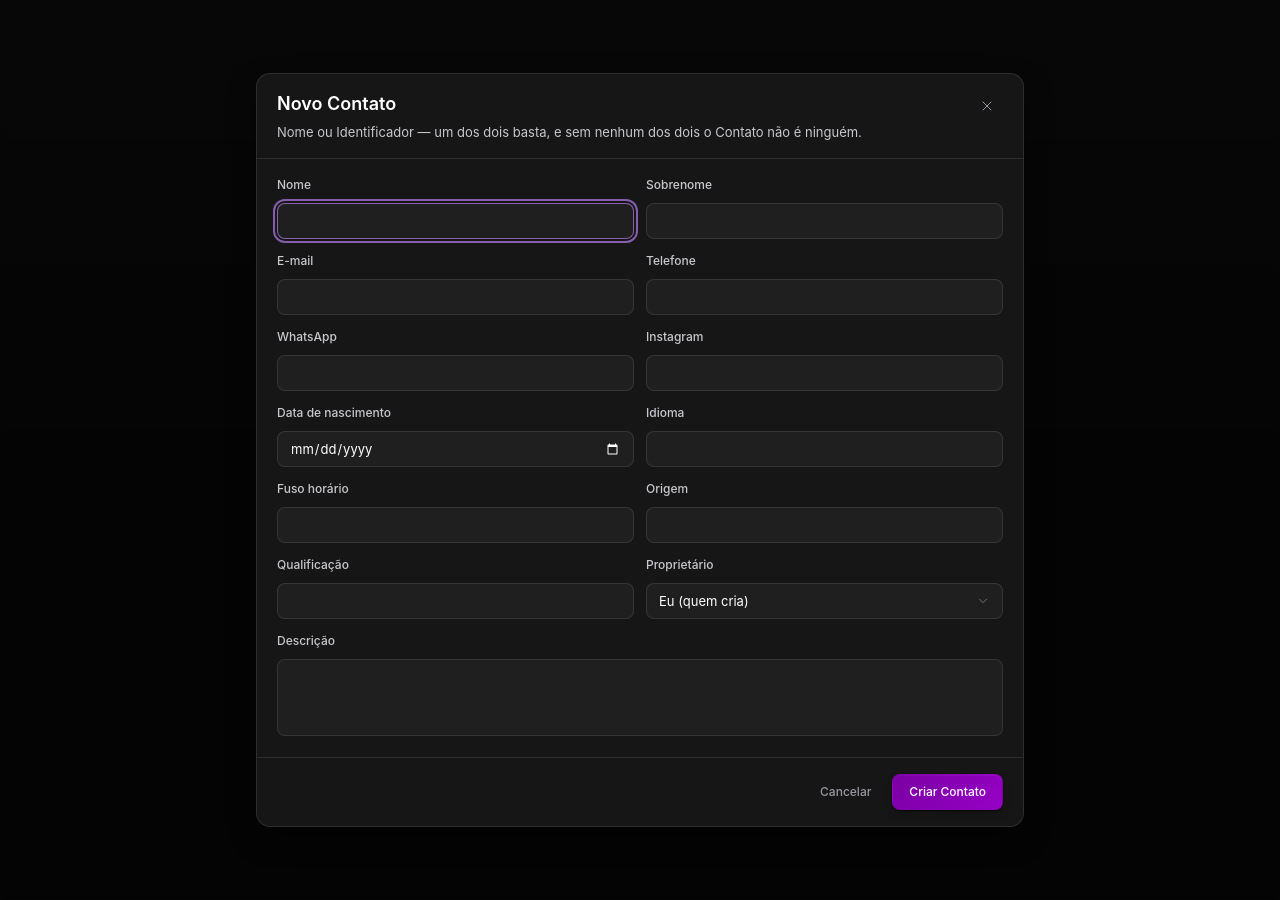
Scenario: DialogoNovoContato › (b) 409 IDENTIFICADOR_EM_USO mostra a frase e o link do detentor, e o diálogo fica aberto com os campos
This screenshot has width=1280, height=900.
Type "Ana" into the field labelled "Nome" at [456, 221], box [277,203,634,239]
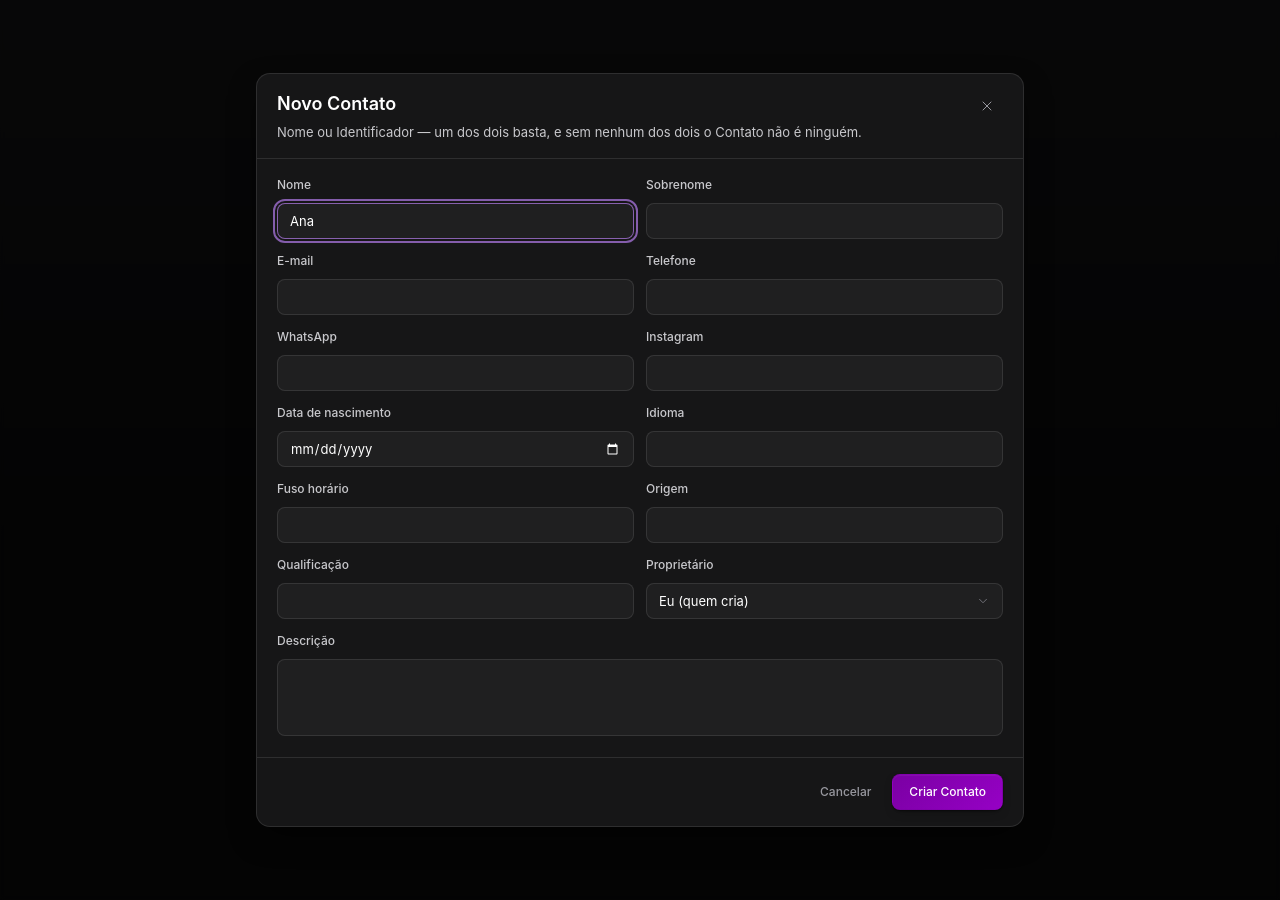
Type "ana@x.com" into the field labelled "E-mail" at [456, 297], box [277,279,634,315]
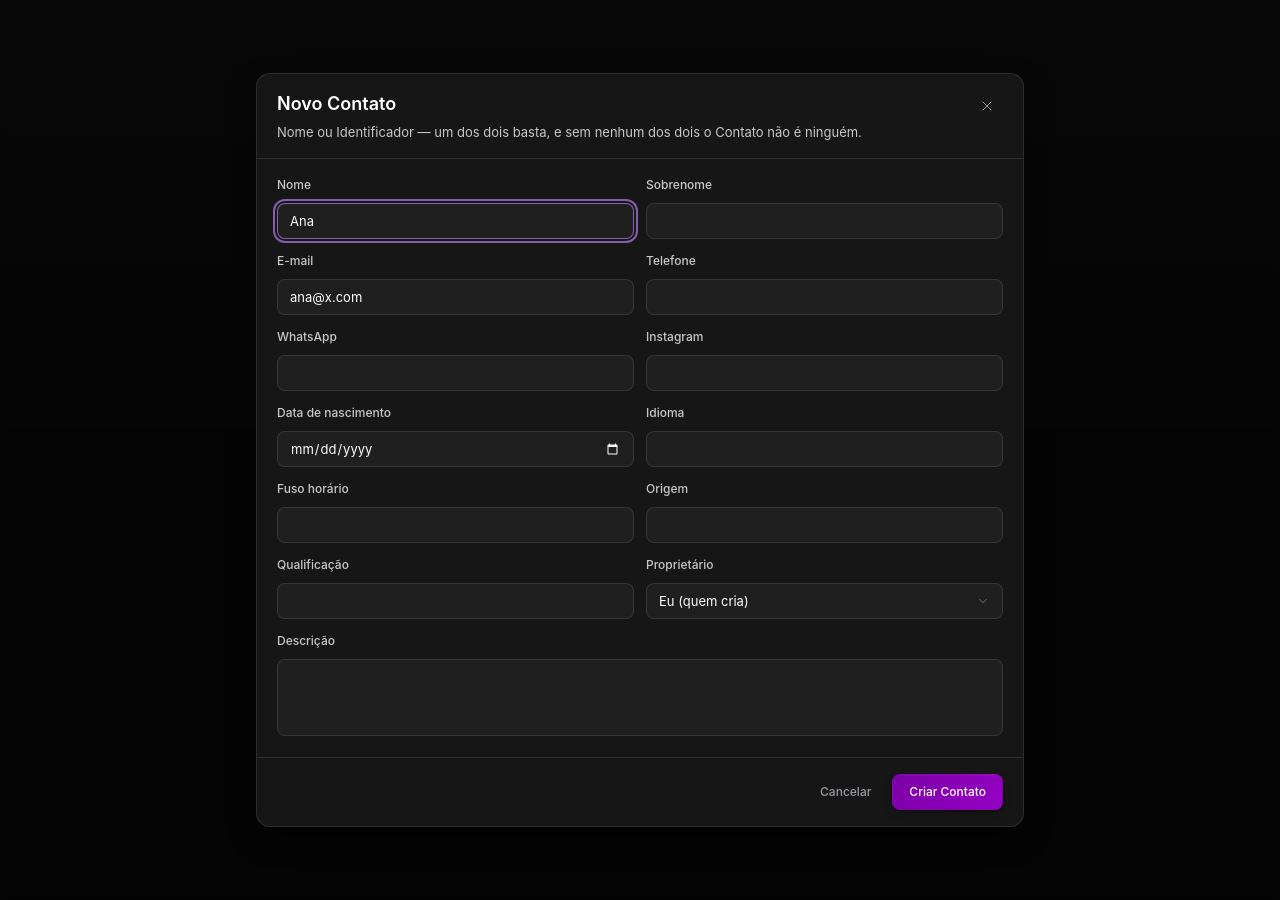
Click the button "Criar Contato" at [948, 792], box [892,774,1003,810]
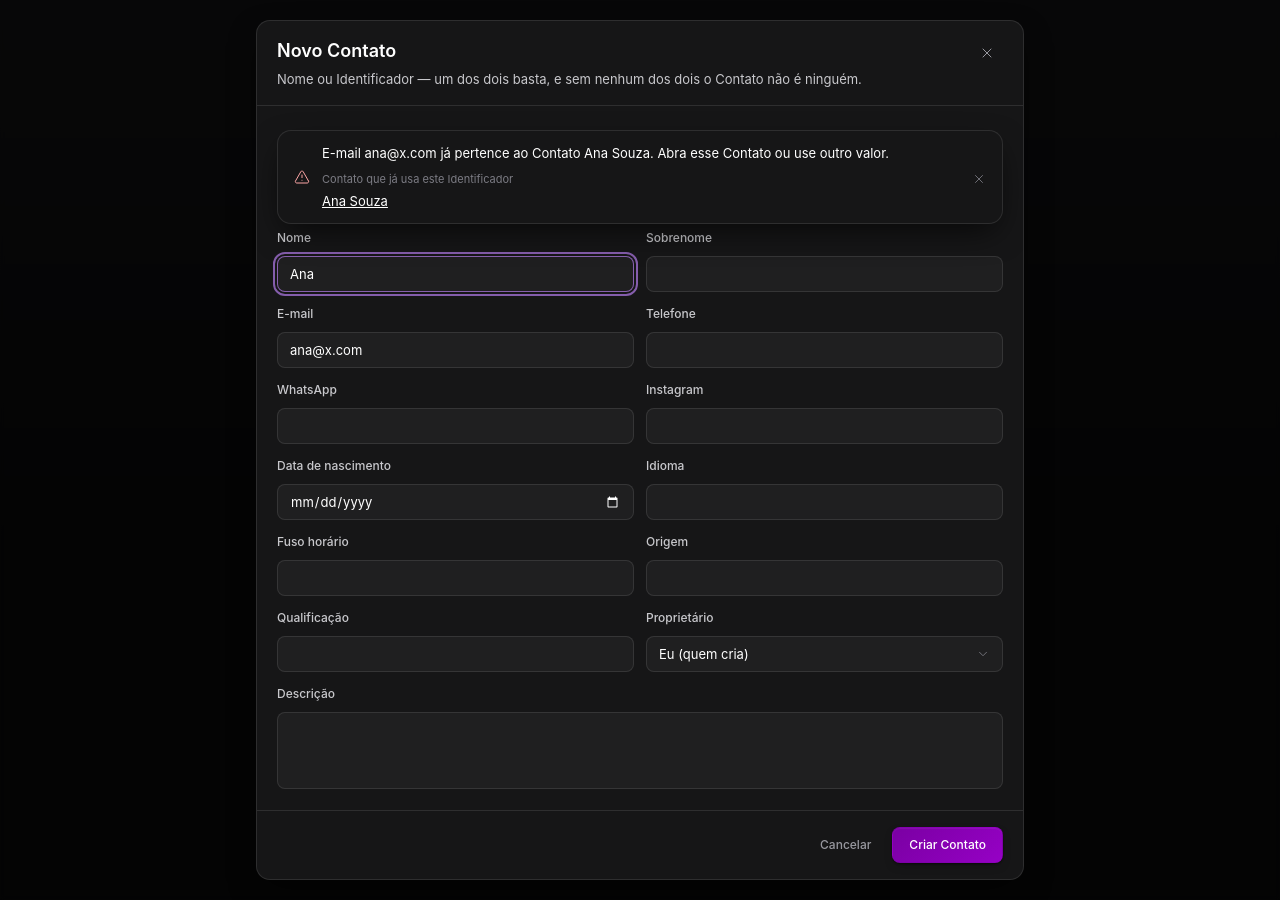
Expected: the dialog is shown, [256,20,1024,880]
Now the text "já pertence ao Contato Ana Souza" is shown, box [322,145,889,161]
